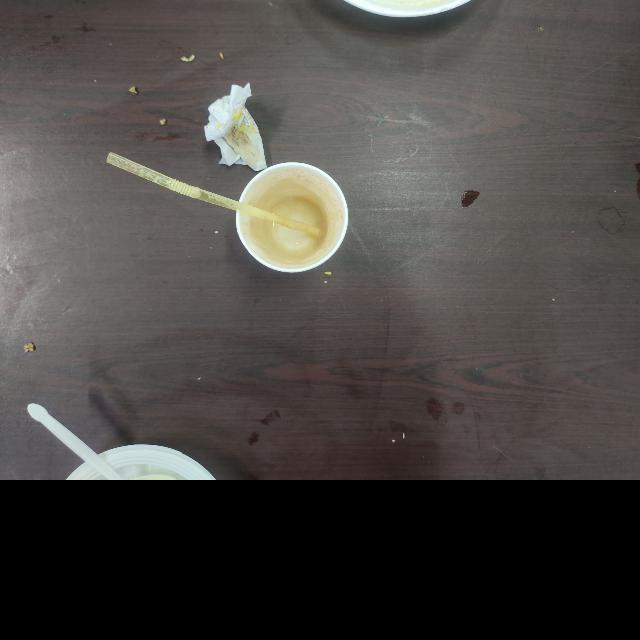kitchen paper: (202, 81, 268, 165)
